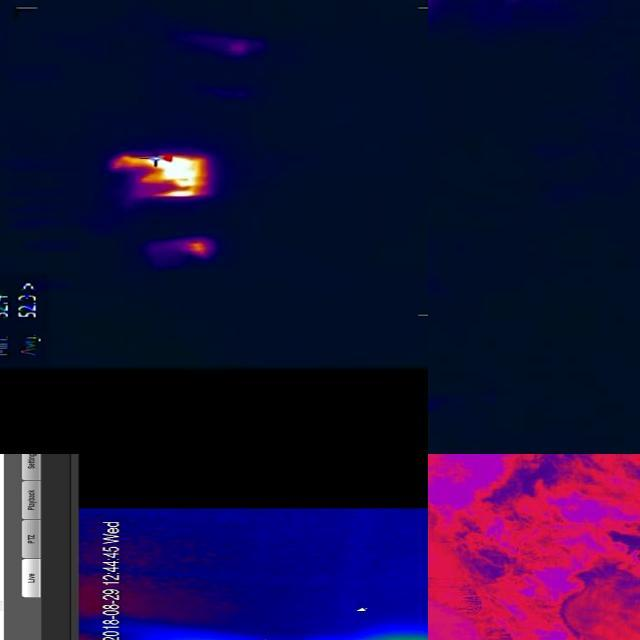fire: (110, 153, 208, 197), (181, 239, 213, 257)
